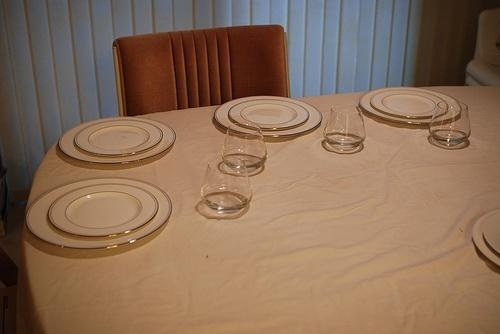chair: (117, 25, 290, 114)
diningtable: (26, 86, 500, 332)
